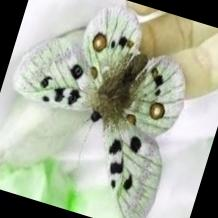butterfly: (12, 7, 185, 218)
